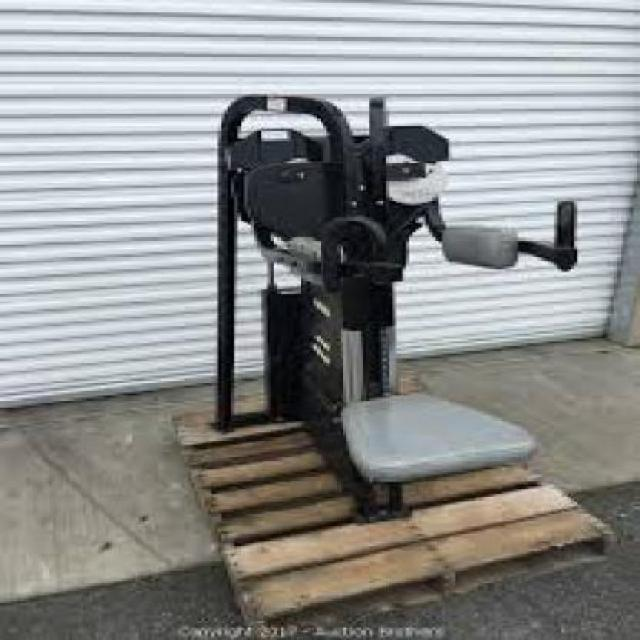lateral raises machine: (218, 91, 584, 514)
